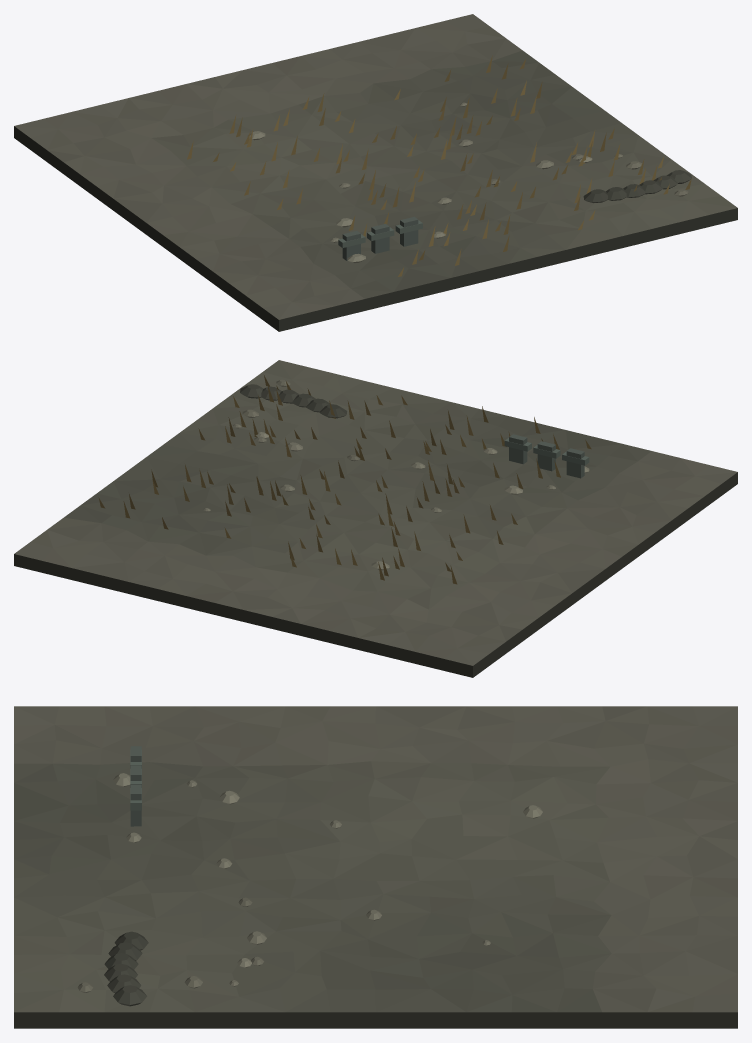
File: CHUNK_abandoned_village__evacuated_funeral_hamlet__11.glb
3 renders of one model, top to bottom at view 1: azimuth 30°, elevation 25°; view 2: azimuth 150°, elevation 25°; view 3: azimuth 270°, elevation 25°, orthographic. The views are drawn at different scales.
Visible parts, largest first — view 1: CHUNK_abandoned_village__evacuated_funeral_hamlet__11; view 2: CHUNK_abandoned_village__evacuated_funeral_hamlet__11; view 3: CHUNK_abandoned_village__evacuated_funeral_hamlet__11.
Boxes of the visible parts, bbox=[...] form: CHUNK_abandoned_village__evacuated_funeral_hamlet__11: bbox=[14, 14, 737, 331]; CHUNK_abandoned_village__evacuated_funeral_hamlet__11: bbox=[14, 360, 737, 677]; CHUNK_abandoned_village__evacuated_funeral_hamlet__11: bbox=[14, 706, 737, 1028].
Bounding box in the file's own units: 8 × 0.61 × 8.
